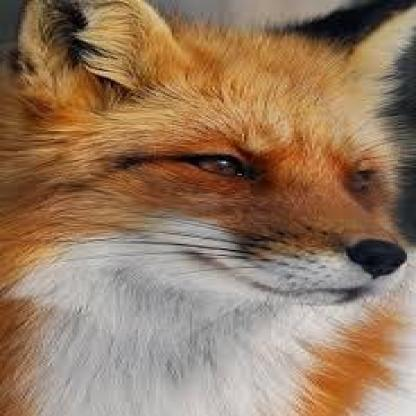raposa: (6, 5, 412, 414)
